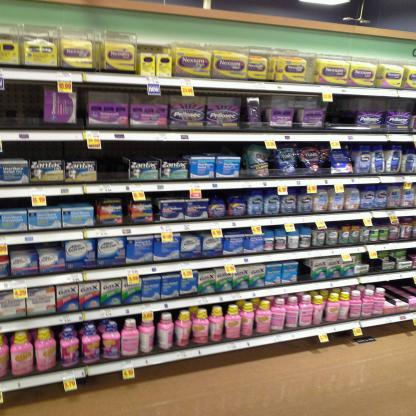Void: (1, 85, 42, 129), (6, 142, 84, 161), (132, 142, 185, 160), (100, 144, 127, 178), (189, 142, 242, 156), (299, 263, 311, 280)
